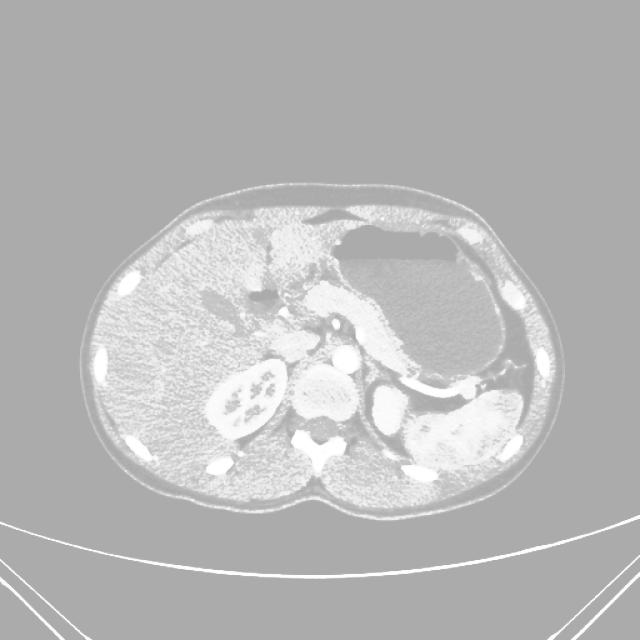NORMAL: (39, 154, 574, 533)
